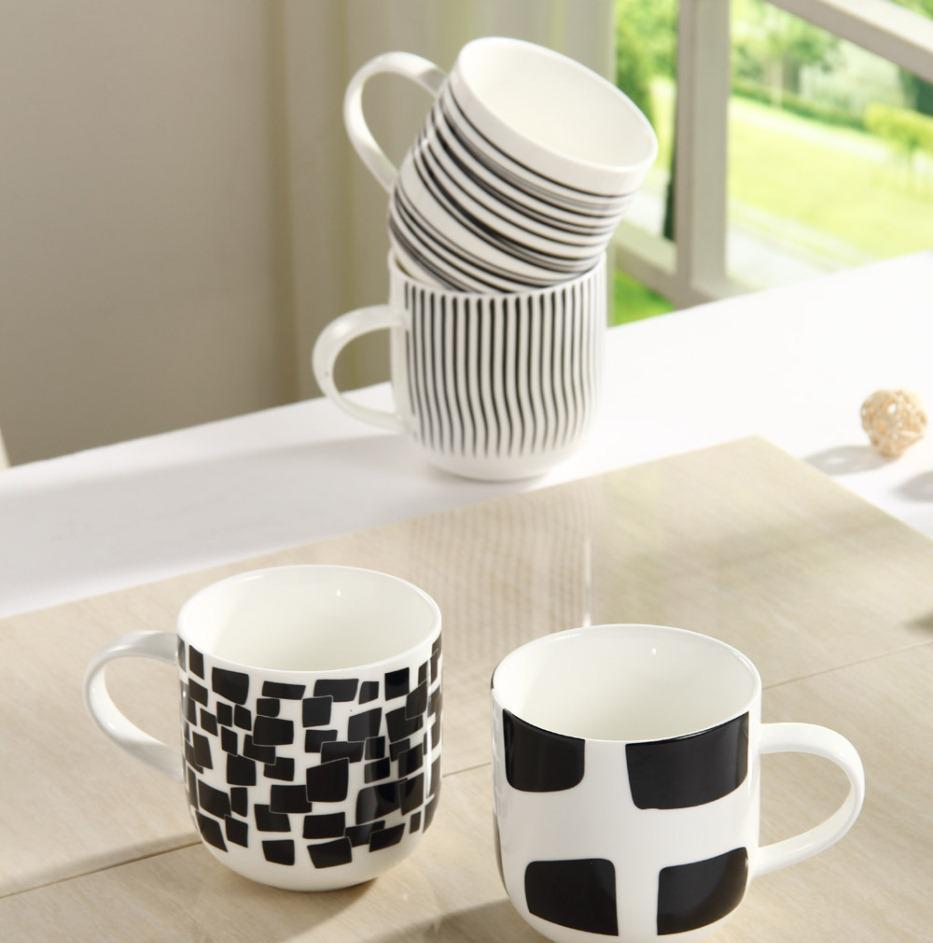cup: (82, 559, 447, 897), (486, 621, 869, 943), (338, 32, 662, 300), (310, 232, 612, 485)
